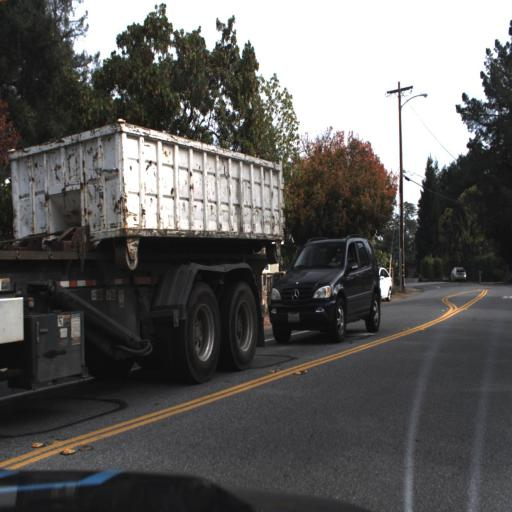car: (265, 230, 384, 352), (378, 265, 396, 305), (447, 258, 471, 285), (449, 265, 466, 283)
truck: (4, 118, 282, 386)
